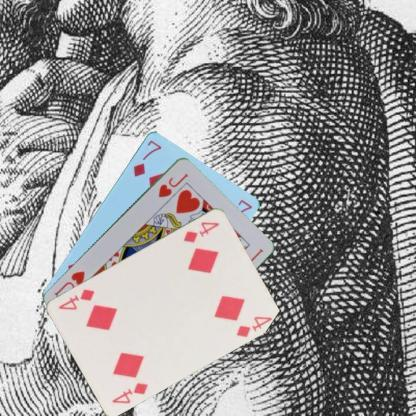4d: (109, 378, 150, 405), (181, 218, 221, 244)
7d: (131, 137, 163, 178)
Jh: (156, 170, 190, 198)
